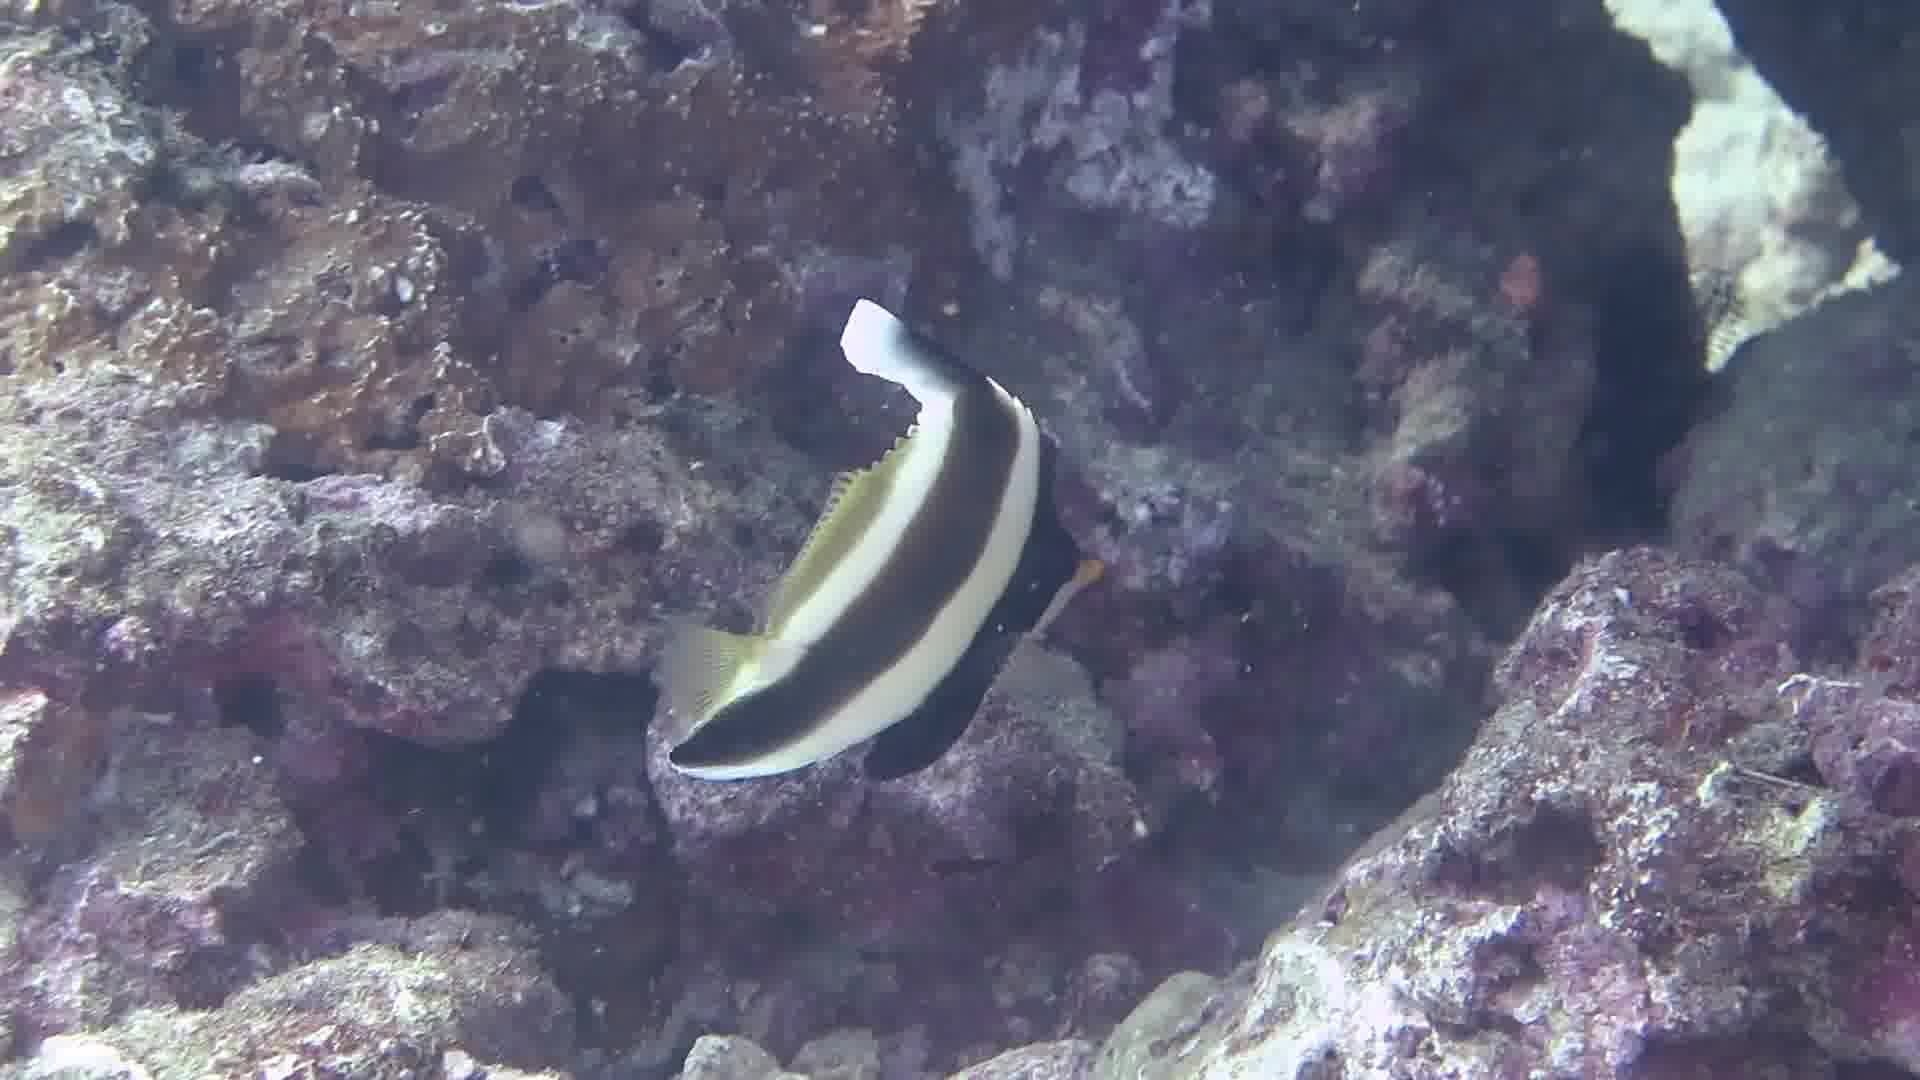Heniochus chrysostomus: (604, 243, 1249, 831)
